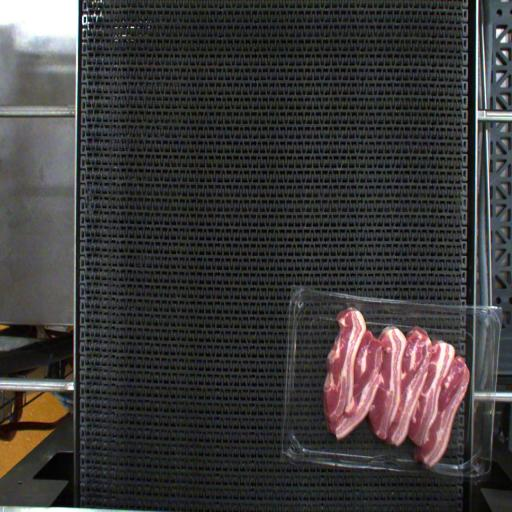packaging-error: (344, 301, 362, 313)
